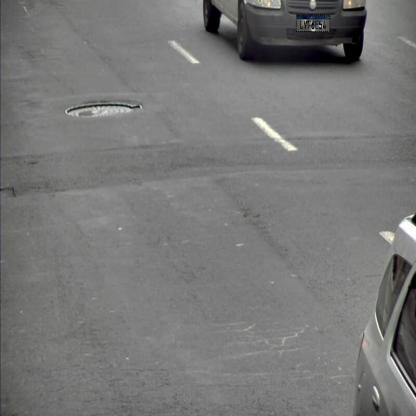PlacaM: (297, 14, 330, 32)
